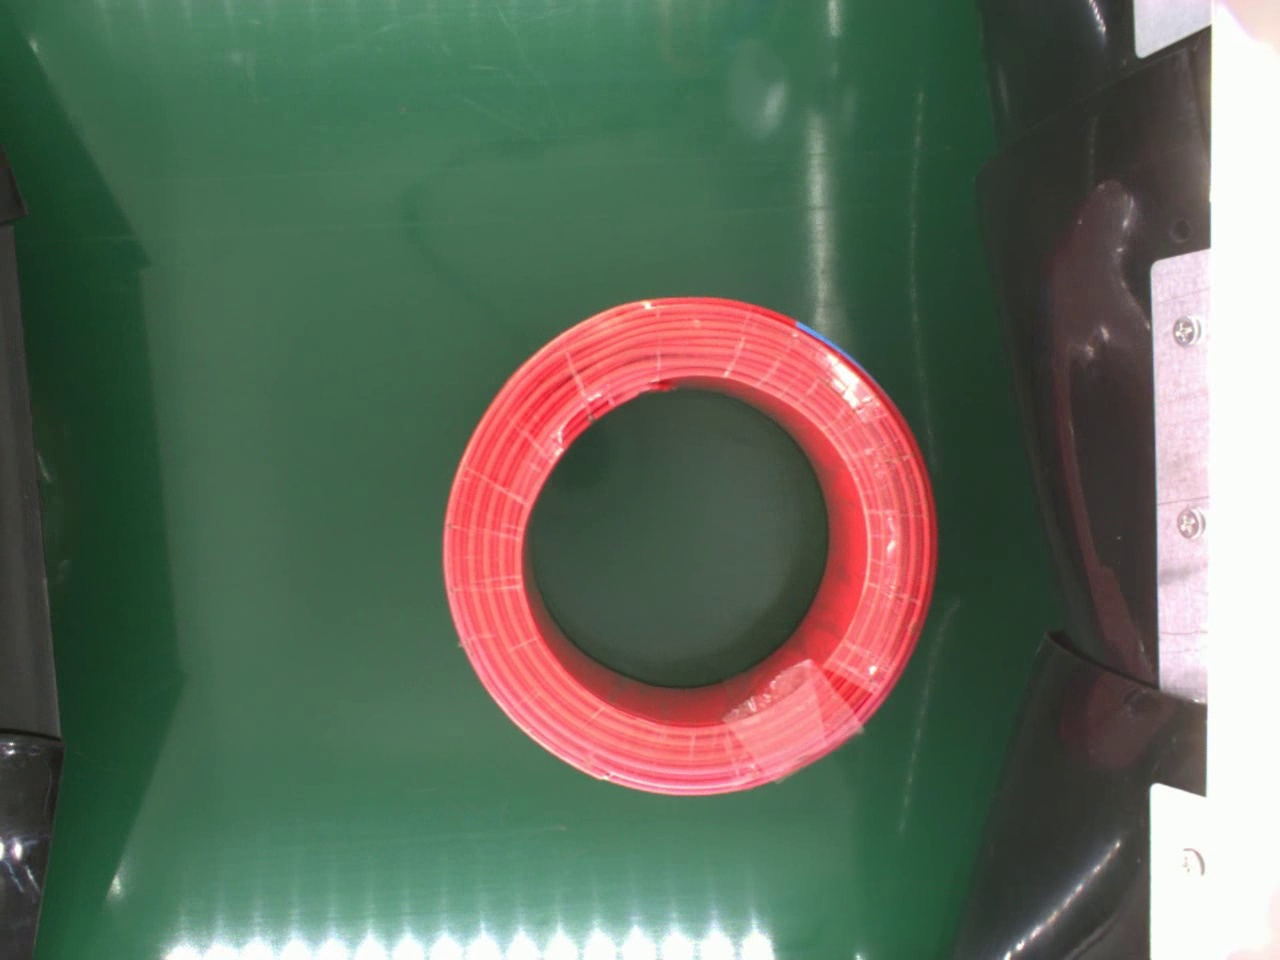red: (436, 295, 942, 801)
